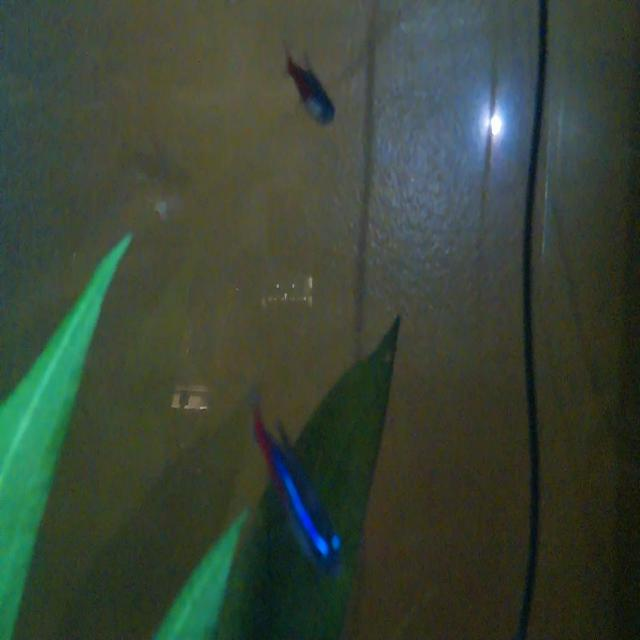fish: (230, 368, 352, 578), (274, 33, 341, 145)
